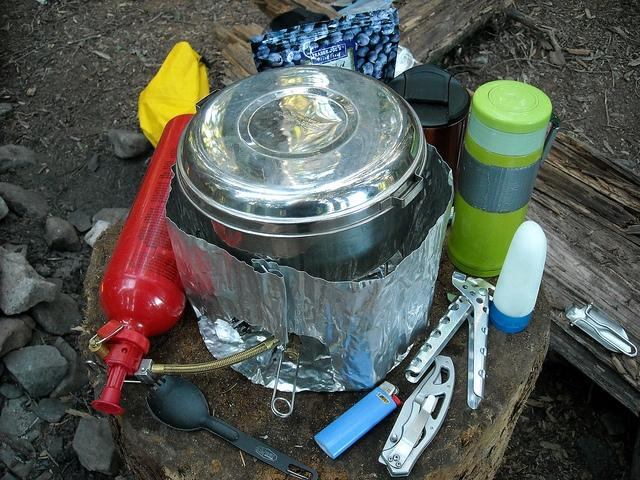blueberry: (324, 18, 340, 35), (313, 22, 329, 38), (268, 52, 282, 68), (280, 48, 294, 63), (338, 17, 352, 32), (297, 35, 311, 50), (256, 45, 270, 59), (368, 16, 382, 30), (300, 22, 316, 34), (266, 31, 280, 44), (361, 63, 374, 77), (277, 40, 291, 53), (382, 64, 395, 78), (350, 24, 362, 39), (356, 33, 369, 46), (371, 42, 383, 56), (382, 22, 394, 35), (366, 50, 378, 63), (368, 33, 381, 45), (356, 46, 369, 57), (342, 30, 354, 41), (386, 50, 396, 63), (318, 38, 332, 47), (377, 54, 388, 65), (372, 60, 383, 71), (390, 31, 400, 43), (308, 30, 318, 42), (377, 10, 389, 20), (362, 26, 373, 36), (380, 35, 390, 46), (383, 42, 392, 54), (250, 35, 264, 42), (375, 70, 384, 80), (389, 10, 398, 20), (282, 61, 296, 67), (358, 58, 366, 68), (349, 18, 359, 26), (280, 32, 290, 40), (308, 42, 318, 50), (296, 30, 306, 38), (270, 45, 278, 54), (391, 56, 396, 70), (356, 13, 366, 20), (368, 12, 378, 18), (290, 25, 299, 31), (392, 44, 398, 52)
